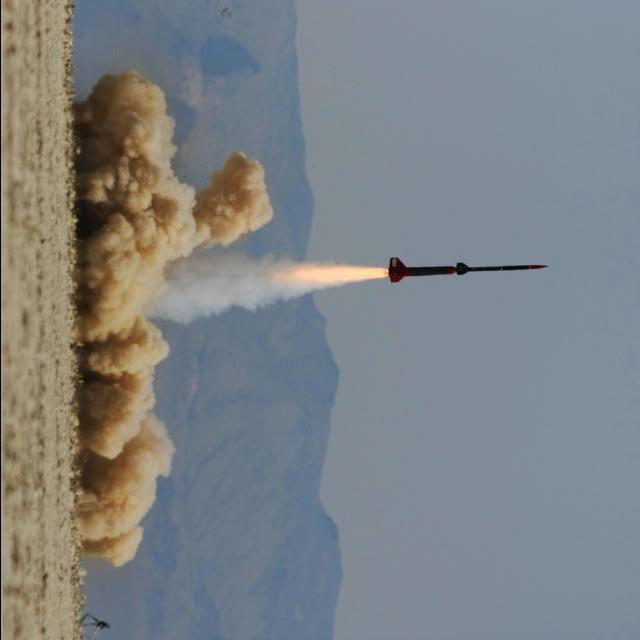missile: (383, 246, 556, 300)
